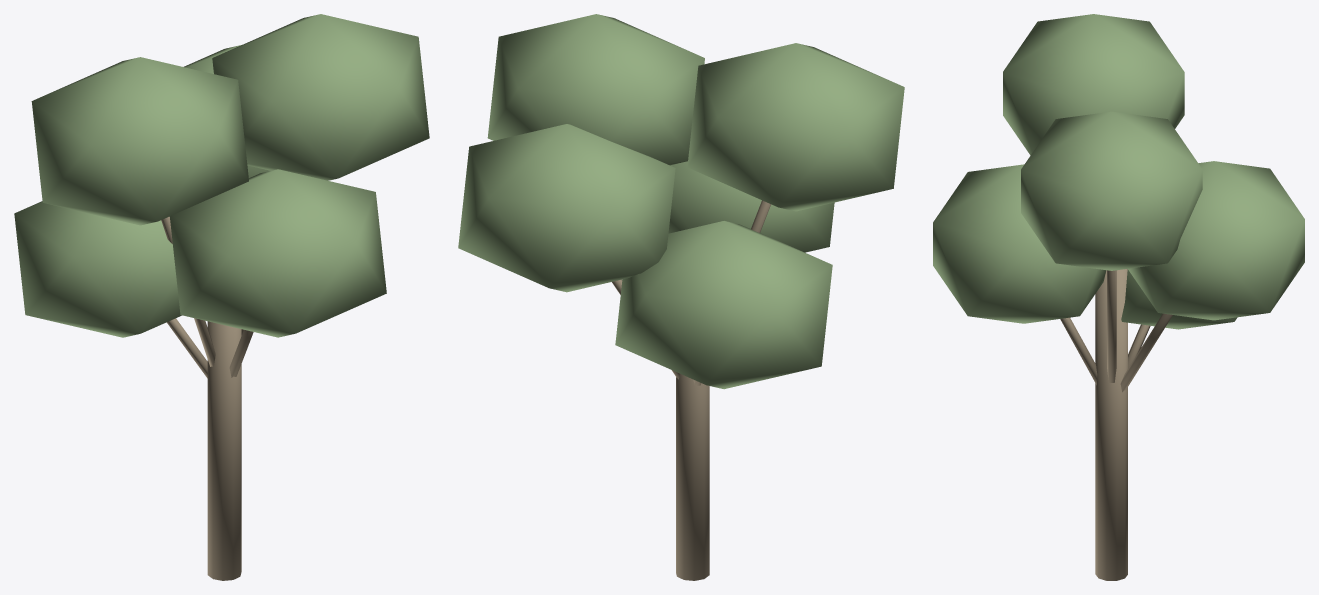
The model's file is tyne-birch_lod1.glb.
The picture shows the model from 3 angles, left to right: view 1: azimuth 30°, elevation 25°; view 2: azimuth 150°, elevation 25°; view 3: azimuth 270°, elevation 25°; orthographic projection. The views are drawn at different scales.
Visible parts, largest first — view 1: RF_Foliage.004, RF_Foliage.002, RF_Foliage, RF_Foliage.001, RF_Trunk, RF_Branch, RF_Branch.002, RF_Foliage.003; view 2: RF_Foliage.004, RF_Foliage.003, RF_Foliage.001, RF_Foliage, RF_Trunk, RF_Foliage.002; view 3: RF_Foliage, RF_Foliage.003, RF_Foliage.004, RF_Foliage.002, RF_Trunk, RF_Foliage.001, RF_Branch.001, RF_Branch.004, RF_Branch.003.
Part boxes in pixels (x1,y1,x2,y2): RF_Foliage.004: (31,57,248,225); RF_Foliage.002: (169,169,386,337); RF_Foliage: (212,14,429,180); RF_Foliage.001: (14,201,181,337); RF_Trunk: (207,321,241,580); RF_Branch: (161,216,215,367); RF_Branch.002: (167,318,207,378); RF_Foliage.003: (184,45,270,177); RF_Foliage.004: (687,43,904,211); RF_Foliage.003: (458,124,675,292); RF_Foliage.001: (615,221,832,389); RF_Foliage: (487,14,704,165); RF_Trunk: (676,374,709,580); RF_Foliage.002: (668,161,834,252); RF_Foliage: (1021,111,1202,270); RF_Foliage.003: (1128,161,1304,320); RF_Foliage.004: (1003,14,1184,155); RF_Foliage.002: (933,164,1106,323); RF_Trunk: (1095,269,1127,580); RF_Foliage.001: (1121,269,1237,329); RF_Branch.001: (1107,270,1116,382); RF_Branch.004: (1120,313,1172,392); RF_Branch.003: (1060,317,1097,385).
Bounding box in the file's own units: 8.05 × 10.9 × 7.1.
